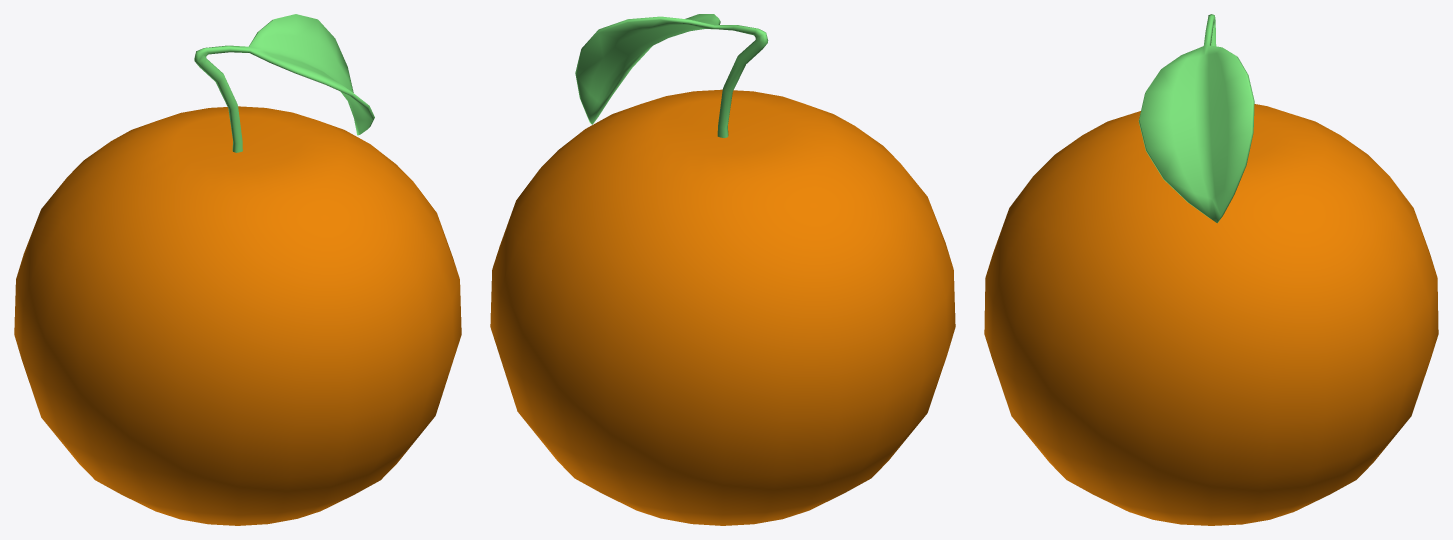
Rendered from orange.fbx.
The picture shows the model from 3 angles, left to right: view 1: azimuth 30°, elevation 25°; view 2: azimuth 150°, elevation 25°; view 3: azimuth 270°, elevation 25°; orthographic projection. The views are drawn at different scales.
Visible parts, largest first — view 1: polySurface1, polySurface2; view 2: polySurface1, polySurface2; view 3: polySurface1, polySurface2.
Part boxes in pixels (bbox=[...]): polySurface1: bbox=[14, 106, 461, 525]; polySurface2: bbox=[194, 14, 374, 152]; polySurface1: bbox=[490, 89, 955, 525]; polySurface2: bbox=[575, 14, 768, 137]; polySurface1: bbox=[984, 104, 1438, 525]; polySurface2: bbox=[1138, 14, 1254, 223].
Bounding box in the file's own units: 2.21 × 2.48 × 2.21.
